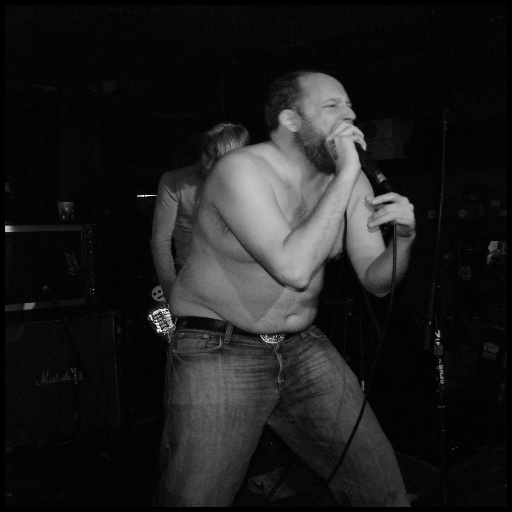hand: (364, 190, 416, 240), (324, 119, 367, 167)
